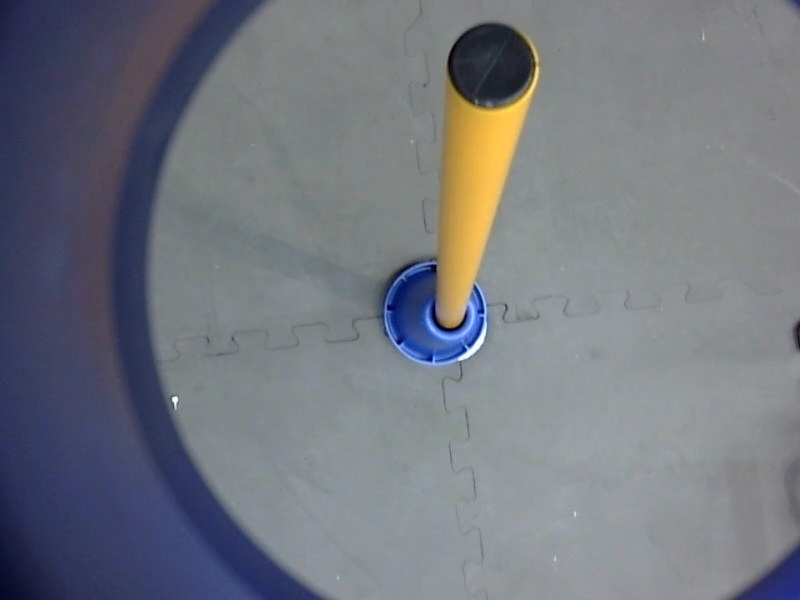tip: (437, 16, 546, 121)
